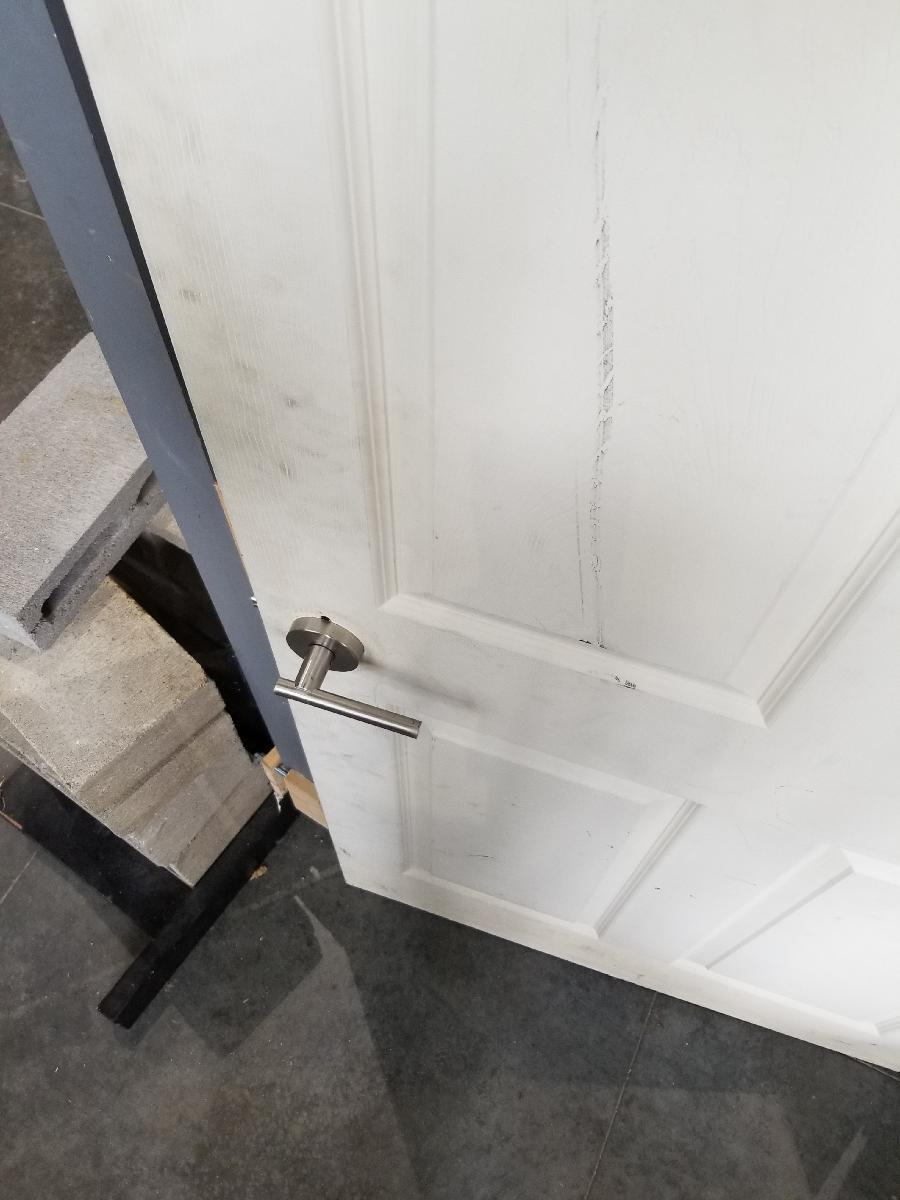door: (321, 0, 900, 1041)
handle: (266, 608, 432, 743)
